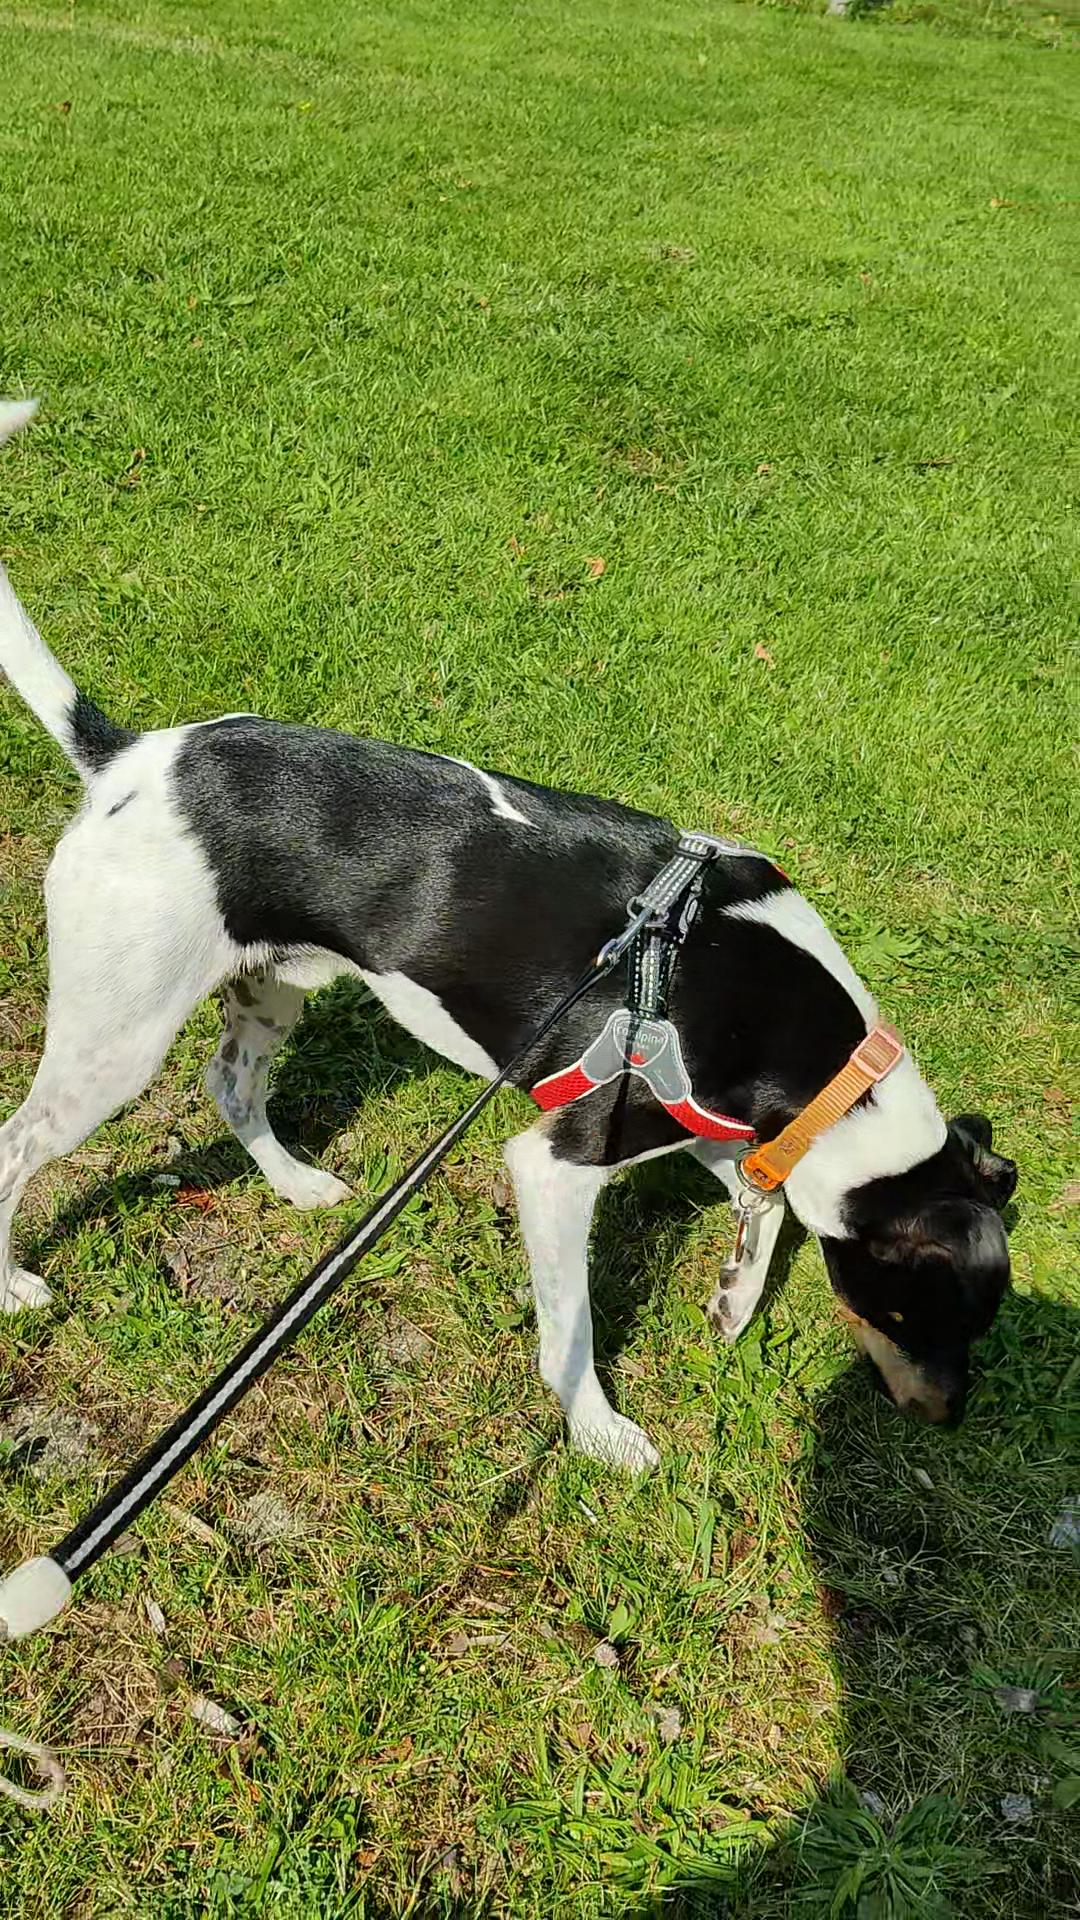Dog: (0, 381, 1036, 1477)
